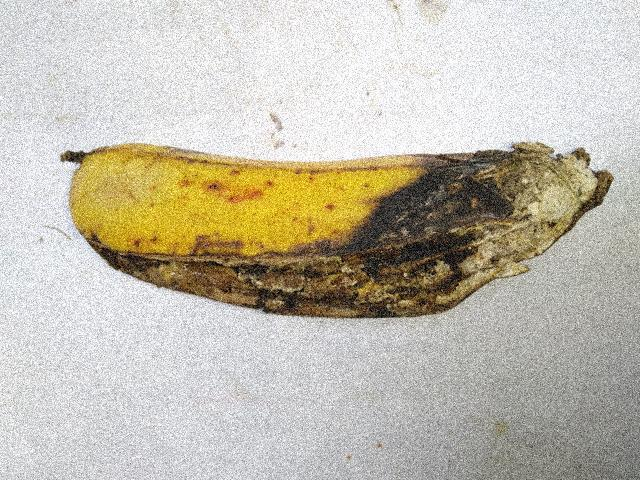rotten: (349, 134, 630, 351), (110, 197, 434, 343)
